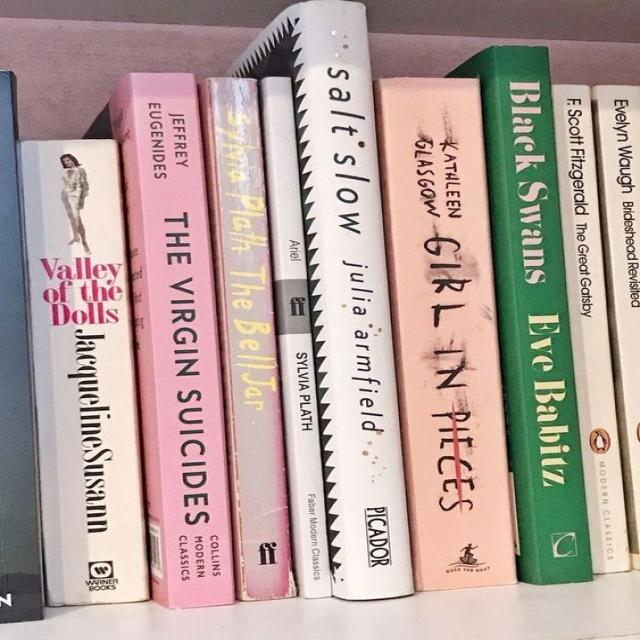book: (228, 0, 413, 600), (449, 45, 592, 584), (375, 78, 516, 591), (110, 73, 234, 608), (19, 139, 148, 605), (200, 78, 294, 599), (554, 84, 630, 573), (261, 77, 330, 597), (595, 86, 639, 568)
